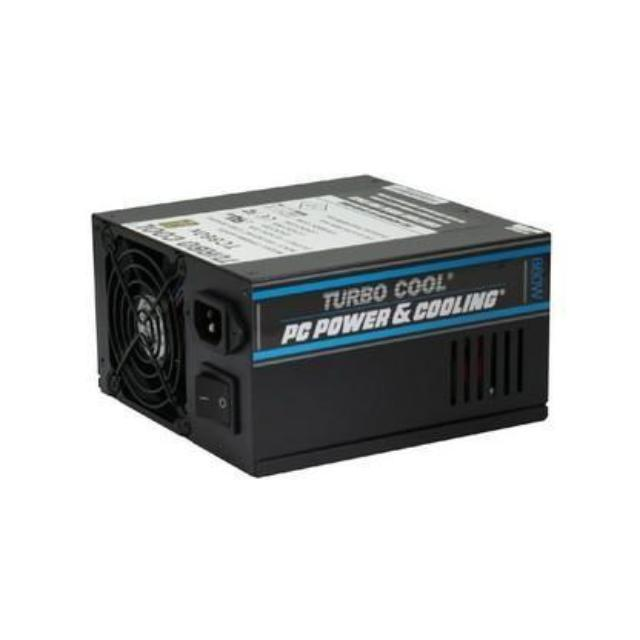PSU: (62, 166, 584, 491)
